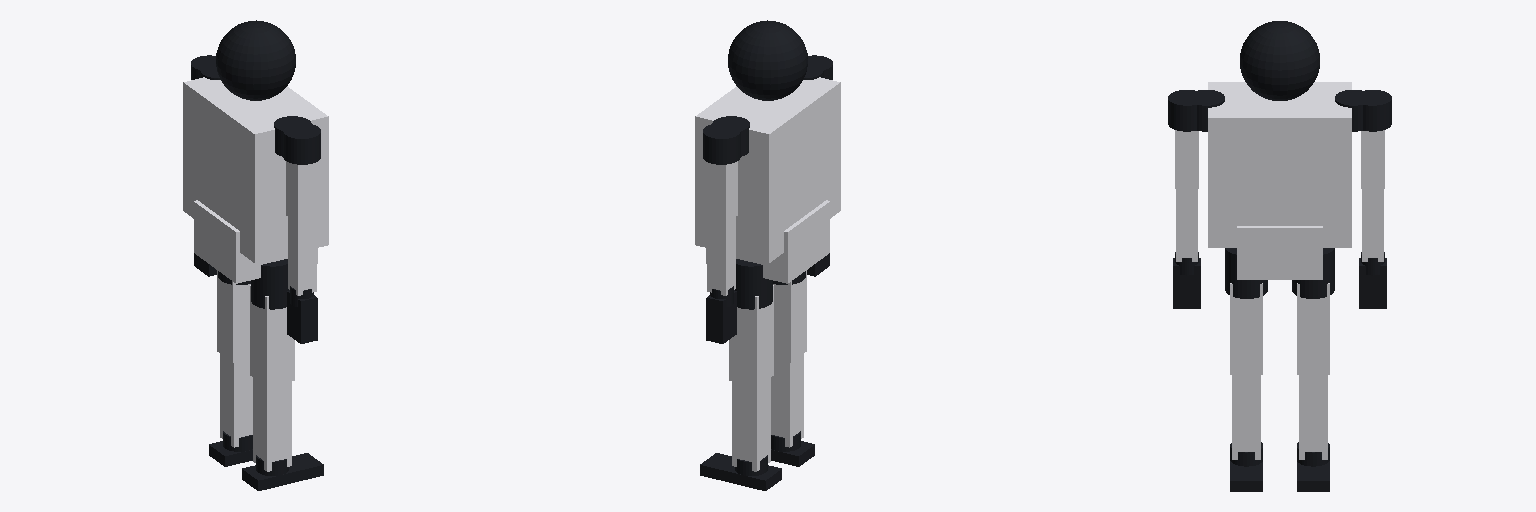
URDF robot description (unitree_g1):
<?xml version="1.0"?>
<!--
  Unitree G1 humanoid (simplified, primitives-only).

  Topology and DOF target the public 23-DOF G1 (12 leg + 1 waist yaw +
  10 arm). Link sizing and masses approximate the real robot for a
  plausible simulation; meshes are replaced with boxes and cylinders so
  vcad's URDF importer (which only recognises primitive geometry) can
  build a complete kinematic + inertial tree.

  Frame: root pelvis sits ~0.793 m above the floor, Z up, X forward.

  All <link> elements come before all <joint> elements — this matches
  the ordering robot-arm-2dof.urdf uses and is required by vcad's
  quick-xml-serde based reader (it does not tolerate interleaved
  link/joint siblings).
-->
<robot name="unitree_g1">

  <material name="g1_dark"><color rgba="0.15 0.16 0.18 1.0"/></material>
  <material name="g1_white"><color rgba="0.92 0.92 0.94 1.0"/></material>
  <material name="g1_accent"><color rgba="0.10 0.55 0.95 1.0"/></material>

  <!-- ================ Links ================ -->

  <!-- Pelvis (root) -->
  <link name="pelvis">
    <visual><geometry><box size="0.20 0.18 0.12"/></geometry><material name="g1_white"/></visual>
    <collision><geometry><box size="0.20 0.18 0.12"/></geometry></collision>
    <inertial><mass value="3.50"/><inertia ixx="0.018" ixy="0" ixz="0" iyy="0.020" iyz="0" izz="0.022"/></inertial>
  </link>

  <!-- Left leg -->
  <link name="left_hip_yaw_link">
    <visual><geometry><cylinder radius="0.045" length="0.06"/></geometry><material name="g1_dark"/></visual>
    <collision><geometry><cylinder radius="0.045" length="0.06"/></geometry></collision>
    <inertial><mass value="0.80"/><inertia ixx="0.001" ixy="0" ixz="0" iyy="0.001" iyz="0" izz="0.0008"/></inertial>
  </link>
  <link name="left_hip_roll_link">
    <visual><geometry><cylinder radius="0.045" length="0.06"/></geometry><material name="g1_dark"/></visual>
    <collision><geometry><cylinder radius="0.045" length="0.06"/></geometry></collision>
    <inertial><mass value="0.80"/><inertia ixx="0.001" ixy="0" ixz="0" iyy="0.001" iyz="0" izz="0.0008"/></inertial>
  </link>
  <link name="left_hip_pitch_link">
    <visual><origin xyz="0 0 -0.105"/><geometry><box size="0.07 0.07 0.21"/></geometry><material name="g1_white"/></visual>
    <collision><origin xyz="0 0 -0.105"/><geometry><box size="0.07 0.07 0.21"/></geometry></collision>
    <inertial><origin xyz="0 0 -0.105"/><mass value="1.85"/><inertia ixx="0.008" ixy="0" ixz="0" iyy="0.008" iyz="0" izz="0.0015"/></inertial>
  </link>
  <link name="left_knee_link">
    <visual><origin xyz="0 0 -0.10"/><geometry><box size="0.06 0.06 0.20"/></geometry><material name="g1_white"/></visual>
    <collision><origin xyz="0 0 -0.10"/><geometry><box size="0.06 0.06 0.20"/></geometry></collision>
    <inertial><origin xyz="0 0 -0.10"/><mass value="1.10"/><inertia ixx="0.005" ixy="0" ixz="0" iyy="0.005" iyz="0" izz="0.0009"/></inertial>
  </link>
  <link name="left_ankle_pitch_link">
    <visual><geometry><cylinder radius="0.035" length="0.04"/></geometry><material name="g1_dark"/></visual>
    <collision><geometry><cylinder radius="0.035" length="0.04"/></geometry></collision>
    <inertial><mass value="0.30"/><inertia ixx="0.0002" ixy="0" ixz="0" iyy="0.0002" iyz="0" izz="0.0002"/></inertial>
  </link>
  <link name="left_foot_link">
    <visual><origin xyz="0.025 0 -0.025"/><geometry><box size="0.16 0.07 0.025"/></geometry><material name="g1_dark"/></visual>
    <collision><origin xyz="0.025 0 -0.025"/><geometry><box size="0.16 0.07 0.025"/></geometry></collision>
    <inertial><origin xyz="0.025 0 -0.025"/><mass value="0.40"/><inertia ixx="0.0006" ixy="0" ixz="0" iyy="0.001" iyz="0" izz="0.0009"/></inertial>
  </link>

  <!-- Right leg -->
  <link name="right_hip_yaw_link">
    <visual><geometry><cylinder radius="0.045" length="0.06"/></geometry><material name="g1_dark"/></visual>
    <collision><geometry><cylinder radius="0.045" length="0.06"/></geometry></collision>
    <inertial><mass value="0.80"/><inertia ixx="0.001" ixy="0" ixz="0" iyy="0.001" iyz="0" izz="0.0008"/></inertial>
  </link>
  <link name="right_hip_roll_link">
    <visual><geometry><cylinder radius="0.045" length="0.06"/></geometry><material name="g1_dark"/></visual>
    <collision><geometry><cylinder radius="0.045" length="0.06"/></geometry></collision>
    <inertial><mass value="0.80"/><inertia ixx="0.001" ixy="0" ixz="0" iyy="0.001" iyz="0" izz="0.0008"/></inertial>
  </link>
  <link name="right_hip_pitch_link">
    <visual><origin xyz="0 0 -0.105"/><geometry><box size="0.07 0.07 0.21"/></geometry><material name="g1_white"/></visual>
    <collision><origin xyz="0 0 -0.105"/><geometry><box size="0.07 0.07 0.21"/></geometry></collision>
    <inertial><origin xyz="0 0 -0.105"/><mass value="1.85"/><inertia ixx="0.008" ixy="0" ixz="0" iyy="0.008" iyz="0" izz="0.0015"/></inertial>
  </link>
  <link name="right_knee_link">
    <visual><origin xyz="0 0 -0.10"/><geometry><box size="0.06 0.06 0.20"/></geometry><material name="g1_white"/></visual>
    <collision><origin xyz="0 0 -0.10"/><geometry><box size="0.06 0.06 0.20"/></geometry></collision>
    <inertial><origin xyz="0 0 -0.10"/><mass value="1.10"/><inertia ixx="0.005" ixy="0" ixz="0" iyy="0.005" iyz="0" izz="0.0009"/></inertial>
  </link>
  <link name="right_ankle_pitch_link">
    <visual><geometry><cylinder radius="0.035" length="0.04"/></geometry><material name="g1_dark"/></visual>
    <collision><geometry><cylinder radius="0.035" length="0.04"/></geometry></collision>
    <inertial><mass value="0.30"/><inertia ixx="0.0002" ixy="0" ixz="0" iyy="0.0002" iyz="0" izz="0.0002"/></inertial>
  </link>
  <link name="right_foot_link">
    <visual><origin xyz="0.025 0 -0.025"/><geometry><box size="0.16 0.07 0.025"/></geometry><material name="g1_dark"/></visual>
    <collision><origin xyz="0.025 0 -0.025"/><geometry><box size="0.16 0.07 0.025"/></geometry></collision>
    <inertial><origin xyz="0.025 0 -0.025"/><mass value="0.40"/><inertia ixx="0.0006" ixy="0" ixz="0" iyy="0.001" iyz="0" izz="0.0009"/></inertial>
  </link>

  <!-- Torso + head -->
  <link name="torso_link">
    <visual><origin xyz="0 0 0.10"/><geometry><box size="0.18 0.30 0.30"/></geometry><material name="g1_white"/></visual>
    <collision><origin xyz="0 0 0.10"/><geometry><box size="0.18 0.30 0.30"/></geometry></collision>
    <inertial><origin xyz="0 0 0.10"/><mass value="6.50"/><inertia ixx="0.10" ixy="0" ixz="0" iyy="0.08" iyz="0" izz="0.06"/></inertial>
  </link>
  <link name="head_link">
    <visual><geometry><sphere radius="0.085"/></geometry><material name="g1_dark"/></visual>
    <collision><geometry><sphere radius="0.085"/></geometry></collision>
    <inertial><mass value="0.90"/><inertia ixx="0.003" ixy="0" ixz="0" iyy="0.003" iyz="0" izz="0.003"/></inertial>
  </link>

  <!-- Left arm -->
  <link name="left_shoulder_pitch_link">
    <visual><geometry><cylinder radius="0.04" length="0.06"/></geometry><material name="g1_dark"/></visual>
    <collision><geometry><cylinder radius="0.04" length="0.06"/></geometry></collision>
    <inertial><mass value="0.55"/><inertia ixx="0.0006" ixy="0" ixz="0" iyy="0.0006" iyz="0" izz="0.0004"/></inertial>
  </link>
  <link name="left_shoulder_roll_link">
    <visual><geometry><cylinder radius="0.04" length="0.06"/></geometry><material name="g1_dark"/></visual>
    <collision><geometry><cylinder radius="0.04" length="0.06"/></geometry></collision>
    <inertial><mass value="0.55"/><inertia ixx="0.0006" ixy="0" ixz="0" iyy="0.0006" iyz="0" izz="0.0004"/></inertial>
  </link>
  <link name="left_shoulder_yaw_link">
    <visual><origin xyz="0 0 -0.085"/><geometry><box size="0.05 0.05 0.17"/></geometry><material name="g1_white"/></visual>
    <collision><origin xyz="0 0 -0.085"/><geometry><box size="0.05 0.05 0.17"/></geometry></collision>
    <inertial><origin xyz="0 0 -0.085"/><mass value="0.65"/><inertia ixx="0.002" ixy="0" ixz="0" iyy="0.002" iyz="0" izz="0.0004"/></inertial>
  </link>
  <link name="left_elbow_link">
    <visual><origin xyz="0 0 -0.085"/><geometry><box size="0.045 0.045 0.17"/></geometry><material name="g1_white"/></visual>
    <collision><origin xyz="0 0 -0.085"/><geometry><box size="0.045 0.045 0.17"/></geometry></collision>
    <inertial><origin xyz="0 0 -0.085"/><mass value="0.50"/><inertia ixx="0.0015" ixy="0" ixz="0" iyy="0.0015" iyz="0" izz="0.0003"/></inertial>
  </link>
  <link name="left_wrist_roll_link">
    <visual><geometry><cylinder radius="0.025" length="0.04"/></geometry><material name="g1_dark"/></visual>
    <collision><geometry><cylinder radius="0.025" length="0.04"/></geometry></collision>
    <inertial><mass value="0.10"/><inertia ixx="0.00006" ixy="0" ixz="0" iyy="0.00006" iyz="0" izz="0.00004"/></inertial>
  </link>
  <link name="left_hand_link">
    <visual><geometry><box size="0.04 0.06 0.10"/></geometry><material name="g1_dark"/></visual>
    <collision><geometry><box size="0.04 0.06 0.10"/></geometry></collision>
    <inertial><mass value="0.20"/><inertia ixx="0.0002" ixy="0" ixz="0" iyy="0.0002" iyz="0" izz="0.0001"/></inertial>
  </link>

  <!-- Right arm -->
  <link name="right_shoulder_pitch_link">
    <visual><geometry><cylinder radius="0.04" length="0.06"/></geometry><material name="g1_dark"/></visual>
    <collision><geometry><cylinder radius="0.04" length="0.06"/></geometry></collision>
    <inertial><mass value="0.55"/><inertia ixx="0.0006" ixy="0" ixz="0" iyy="0.0006" iyz="0" izz="0.0004"/></inertial>
  </link>
  <link name="right_shoulder_roll_link">
    <visual><geometry><cylinder radius="0.04" length="0.06"/></geometry><material name="g1_dark"/></visual>
    <collision><geometry><cylinder radius="0.04" length="0.06"/></geometry></collision>
    <inertial><mass value="0.55"/><inertia ixx="0.0006" ixy="0" ixz="0" iyy="0.0006" iyz="0" izz="0.0004"/></inertial>
  </link>
  <link name="right_shoulder_yaw_link">
    <visual><origin xyz="0 0 -0.085"/><geometry><box size="0.05 0.05 0.17"/></geometry><material name="g1_white"/></visual>
    <collision><origin xyz="0 0 -0.085"/><geometry><box size="0.05 0.05 0.17"/></geometry></collision>
    <inertial><origin xyz="0 0 -0.085"/><mass value="0.65"/><inertia ixx="0.002" ixy="0" ixz="0" iyy="0.002" iyz="0" izz="0.0004"/></inertial>
  </link>
  <link name="right_elbow_link">
    <visual><origin xyz="0 0 -0.085"/><geometry><box size="0.045 0.045 0.17"/></geometry><material name="g1_white"/></visual>
    <collision><origin xyz="0 0 -0.085"/><geometry><box size="0.045 0.045 0.17"/></geometry></collision>
    <inertial><origin xyz="0 0 -0.085"/><mass value="0.50"/><inertia ixx="0.0015" ixy="0" ixz="0" iyy="0.0015" iyz="0" izz="0.0003"/></inertial>
  </link>
  <link name="right_wrist_roll_link">
    <visual><geometry><cylinder radius="0.025" length="0.04"/></geometry><material name="g1_dark"/></visual>
    <collision><geometry><cylinder radius="0.025" length="0.04"/></geometry></collision>
    <inertial><mass value="0.10"/><inertia ixx="0.00006" ixy="0" ixz="0" iyy="0.00006" iyz="0" izz="0.00004"/></inertial>
  </link>
  <link name="right_hand_link">
    <visual><geometry><box size="0.04 0.06 0.10"/></geometry><material name="g1_dark"/></visual>
    <collision><geometry><box size="0.04 0.06 0.10"/></geometry></collision>
    <inertial><mass value="0.20"/><inertia ixx="0.0002" ixy="0" ixz="0" iyy="0.0002" iyz="0" izz="0.0001"/></inertial>
  </link>

  <!-- ================ Joints ================ -->

  <!-- Left leg (6 DOF) -->
  <joint name="left_hip_yaw_joint" type="revolute">
    <parent link="pelvis"/>
    <child link="left_hip_yaw_link"/>
    <origin xyz="0 0.07 -0.06" rpy="0 0 0"/>
    <axis xyz="0 0 1"/>
    <limit lower="-0.43" upper="0.43" effort="88" velocity="32"/>
  </joint>
  <joint name="left_hip_roll_joint" type="revolute">
    <parent link="left_hip_yaw_link"/>
    <child link="left_hip_roll_link"/>
    <origin xyz="0 0 -0.04" rpy="0 0 0"/>
    <axis xyz="1 0 0"/>
    <limit lower="-0.43" upper="2.53" effort="139" velocity="20"/>
  </joint>
  <joint name="left_hip_pitch_joint" type="revolute">
    <parent link="left_hip_roll_link"/>
    <child link="left_hip_pitch_link"/>
    <origin xyz="0 0 0" rpy="0 0 0"/>
    <axis xyz="0 1 0"/>
    <limit lower="-1.75" upper="2.88" effort="139" velocity="20"/>
  </joint>
  <joint name="left_knee_joint" type="revolute">
    <parent link="left_hip_pitch_link"/>
    <child link="left_knee_link"/>
    <origin xyz="0 0 -0.21" rpy="0 0 0"/>
    <axis xyz="0 1 0"/>
    <limit lower="-0.087" upper="2.88" effort="139" velocity="20"/>
  </joint>
  <joint name="left_ankle_pitch_joint" type="revolute">
    <parent link="left_knee_link"/>
    <child link="left_ankle_pitch_link"/>
    <origin xyz="0 0 -0.20" rpy="0 0 0"/>
    <axis xyz="0 1 0"/>
    <limit lower="-0.87" upper="0.52" effort="35" velocity="32"/>
  </joint>
  <joint name="left_ankle_roll_joint" type="revolute">
    <parent link="left_ankle_pitch_link"/>
    <child link="left_foot_link"/>
    <origin xyz="0 0 0" rpy="0 0 0"/>
    <axis xyz="1 0 0"/>
    <limit lower="-0.26" upper="0.26" effort="35" velocity="32"/>
  </joint>

  <!-- Right leg (6 DOF) -->
  <joint name="right_hip_yaw_joint" type="revolute">
    <parent link="pelvis"/>
    <child link="right_hip_yaw_link"/>
    <origin xyz="0 -0.07 -0.06" rpy="0 0 0"/>
    <axis xyz="0 0 1"/>
    <limit lower="-0.43" upper="0.43" effort="88" velocity="32"/>
  </joint>
  <joint name="right_hip_roll_joint" type="revolute">
    <parent link="right_hip_yaw_link"/>
    <child link="right_hip_roll_link"/>
    <origin xyz="0 0 -0.04" rpy="0 0 0"/>
    <axis xyz="1 0 0"/>
    <limit lower="-2.53" upper="0.43" effort="139" velocity="20"/>
  </joint>
  <joint name="right_hip_pitch_joint" type="revolute">
    <parent link="right_hip_roll_link"/>
    <child link="right_hip_pitch_link"/>
    <origin xyz="0 0 0" rpy="0 0 0"/>
    <axis xyz="0 1 0"/>
    <limit lower="-1.75" upper="2.88" effort="139" velocity="20"/>
  </joint>
  <joint name="right_knee_joint" type="revolute">
    <parent link="right_hip_pitch_link"/>
    <child link="right_knee_link"/>
    <origin xyz="0 0 -0.21" rpy="0 0 0"/>
    <axis xyz="0 1 0"/>
    <limit lower="-0.087" upper="2.88" effort="139" velocity="20"/>
  </joint>
  <joint name="right_ankle_pitch_joint" type="revolute">
    <parent link="right_knee_link"/>
    <child link="right_ankle_pitch_link"/>
    <origin xyz="0 0 -0.20" rpy="0 0 0"/>
    <axis xyz="0 1 0"/>
    <limit lower="-0.87" upper="0.52" effort="35" velocity="32"/>
  </joint>
  <joint name="right_ankle_roll_joint" type="revolute">
    <parent link="right_ankle_pitch_link"/>
    <child link="right_foot_link"/>
    <origin xyz="0 0 0" rpy="0 0 0"/>
    <axis xyz="1 0 0"/>
    <limit lower="-0.26" upper="0.26" effort="35" velocity="32"/>
  </joint>

  <!-- Waist + head (1 DOF actuated, head fixed) -->
  <joint name="waist_yaw_joint" type="revolute">
    <parent link="pelvis"/>
    <child link="torso_link"/>
    <origin xyz="0 0 0.06" rpy="0 0 0"/>
    <axis xyz="0 0 1"/>
    <limit lower="-2.62" upper="2.62" effort="88" velocity="32"/>
  </joint>
  <joint name="head_fixed_joint" type="fixed">
    <parent link="torso_link"/>
    <child link="head_link"/>
    <origin xyz="0 0 0.34" rpy="0 0 0"/>
  </joint>

  <!-- Left arm (5 DOF actuated, hand fixed) -->
  <joint name="left_shoulder_pitch_joint" type="revolute">
    <parent link="torso_link"/>
    <child link="left_shoulder_pitch_link"/>
    <origin xyz="0 0.155 0.225" rpy="0 0 0"/>
    <axis xyz="0 1 0"/>
    <limit lower="-3.14" upper="1.57" effort="40" velocity="32"/>
  </joint>
  <joint name="left_shoulder_roll_joint" type="revolute">
    <parent link="left_shoulder_pitch_link"/>
    <child link="left_shoulder_roll_link"/>
    <origin xyz="0 0.04 0" rpy="0 0 0"/>
    <axis xyz="1 0 0"/>
    <limit lower="-1.57" upper="2.27" effort="40" velocity="32"/>
  </joint>
  <joint name="left_shoulder_yaw_joint" type="revolute">
    <parent link="left_shoulder_roll_link"/>
    <child link="left_shoulder_yaw_link"/>
    <origin xyz="0 0 0" rpy="0 0 0"/>
    <axis xyz="0 0 1"/>
    <limit lower="-2.62" upper="2.62" effort="40" velocity="32"/>
  </joint>
  <joint name="left_elbow_joint" type="revolute">
    <parent link="left_shoulder_yaw_link"/>
    <child link="left_elbow_link"/>
    <origin xyz="0 0 -0.17" rpy="0 0 0"/>
    <axis xyz="0 1 0"/>
    <limit lower="-1.05" upper="2.27" effort="40" velocity="32"/>
  </joint>
  <joint name="left_wrist_roll_joint" type="revolute">
    <parent link="left_elbow_link"/>
    <child link="left_wrist_roll_link"/>
    <origin xyz="0 0 -0.18" rpy="0 0 0"/>
    <axis xyz="0 0 1"/>
    <limit lower="-1.97" upper="1.97" effort="18" velocity="32"/>
  </joint>
  <joint name="left_hand_fixed_joint" type="fixed">
    <parent link="left_wrist_roll_link"/>
    <child link="left_hand_link"/>
    <origin xyz="0 0 -0.05" rpy="0 0 0"/>
  </joint>

  <!-- Right arm (5 DOF actuated, hand fixed) -->
  <joint name="right_shoulder_pitch_joint" type="revolute">
    <parent link="torso_link"/>
    <child link="right_shoulder_pitch_link"/>
    <origin xyz="0 -0.155 0.225" rpy="0 0 0"/>
    <axis xyz="0 1 0"/>
    <limit lower="-3.14" upper="1.57" effort="40" velocity="32"/>
  </joint>
  <joint name="right_shoulder_roll_joint" type="revolute">
    <parent link="right_shoulder_pitch_link"/>
    <child link="right_shoulder_roll_link"/>
    <origin xyz="0 -0.04 0" rpy="0 0 0"/>
    <axis xyz="1 0 0"/>
    <limit lower="-2.27" upper="1.57" effort="40" velocity="32"/>
  </joint>
  <joint name="right_shoulder_yaw_joint" type="revolute">
    <parent link="right_shoulder_roll_link"/>
    <child link="right_shoulder_yaw_link"/>
    <origin xyz="0 0 0" rpy="0 0 0"/>
    <axis xyz="0 0 1"/>
    <limit lower="-2.62" upper="2.62" effort="40" velocity="32"/>
  </joint>
  <joint name="right_elbow_joint" type="revolute">
    <parent link="right_shoulder_yaw_link"/>
    <child link="right_elbow_link"/>
    <origin xyz="0 0 -0.17" rpy="0 0 0"/>
    <axis xyz="0 1 0"/>
    <limit lower="-1.05" upper="2.27" effort="40" velocity="32"/>
  </joint>
  <joint name="right_wrist_roll_joint" type="revolute">
    <parent link="right_elbow_link"/>
    <child link="right_wrist_roll_link"/>
    <origin xyz="0 0 -0.18" rpy="0 0 0"/>
    <axis xyz="0 0 1"/>
    <limit lower="-1.97" upper="1.97" effort="18" velocity="32"/>
  </joint>
  <joint name="right_hand_fixed_joint" type="fixed">
    <parent link="right_wrist_roll_link"/>
    <child link="right_hand_link"/>
    <origin xyz="0 0 -0.05" rpy="0 0 0"/>
  </joint>

</robot>

--- Render facts (derived) ---
The picture shows the robot from 3 angles, left to right: view 1: azimuth 30°, elevation 25°; view 2: azimuth 150°, elevation 25°; view 3: azimuth 270°, elevation 25°; orthographic projection.
Robot: unitree_g1 — 27 links, 26 joints (23 revolute, 3 fixed); root link pelvis; default pose: every joint at zero.
Visible links, largest first — view 1: torso_link, head_link, right_hip_pitch_link, right_knee_link, pelvis, left_knee_link, left_hip_pitch_link, right_elbow_link, right_shoulder_yaw_link, right_foot_link, right_shoulder_roll_link, right_hand_link (+4 smaller); view 2: torso_link, head_link, left_hip_pitch_link, left_knee_link, pelvis, right_knee_link, right_hip_pitch_link, left_elbow_link, left_shoulder_yaw_link, left_foot_link, left_shoulder_roll_link, left_hand_link (+4 smaller); view 3: torso_link, head_link, pelvis, left_hip_pitch_link, right_hip_pitch_link, left_knee_link, right_knee_link, left_elbow_link, right_elbow_link, left_shoulder_yaw_link, right_shoulder_yaw_link, left_hand_link (+9 smaller).
Boxes of the visible links, <box> form: torso_link: <box>183,77,328,262</box>; head_link: <box>216,20,295,100</box>; right_hip_pitch_link: <box>250,285,294,386</box>; right_knee_link: <box>253,378,291,471</box>; pelvis: <box>194,200,317,283</box>; left_knee_link: <box>220,354,252,447</box>; left_hip_pitch_link: <box>217,270,250,362</box>; right_elbow_link: <box>288,217,316,295</box>; right_shoulder_yaw_link: <box>286,161,317,223</box>; right_foot_link: <box>242,453,323,490</box>; right_shoulder_roll_link: <box>283,123,320,164</box>; right_hand_link: <box>287,290,317,343</box>; torso_link: <box>695,77,840,262</box>; head_link: <box>728,20,807,100</box>; left_hip_pitch_link: <box>729,285,773,386</box>; left_knee_link: <box>732,378,770,471</box>; pelvis: <box>706,200,829,283</box>; right_knee_link: <box>771,354,803,447</box>; right_hip_pitch_link: <box>773,270,806,362</box>; left_elbow_link: <box>707,217,735,295</box>; left_shoulder_yaw_link: <box>706,161,737,223</box>; left_foot_link: <box>700,453,781,490</box>; left_shoulder_roll_link: <box>703,123,740,164</box>; left_hand_link: <box>706,290,736,343</box>; torso_link: <box>1208,82,1351,247</box>; head_link: <box>1240,21,1319,100</box>; pelvis: <box>1237,226,1322,279</box>; left_hip_pitch_link: <box>1297,283,1329,374</box>; right_hip_pitch_link: <box>1230,283,1262,374</box>; left_knee_link: <box>1299,375,1327,459</box>; right_knee_link: <box>1232,375,1260,459</box>; left_elbow_link: <box>1362,189,1383,261</box>; right_elbow_link: <box>1176,189,1197,261</box>; left_shoulder_yaw_link: <box>1361,130,1384,188</box>; right_shoulder_yaw_link: <box>1175,130,1198,188</box>; left_hand_link: <box>1359,258,1386,308</box>.
Bounding box of the posed robot: 0.205 × 0.47 × 1.03 m (x, y, z).
Geometry: primitives only (box / cylinder / sphere), no mesh files.
